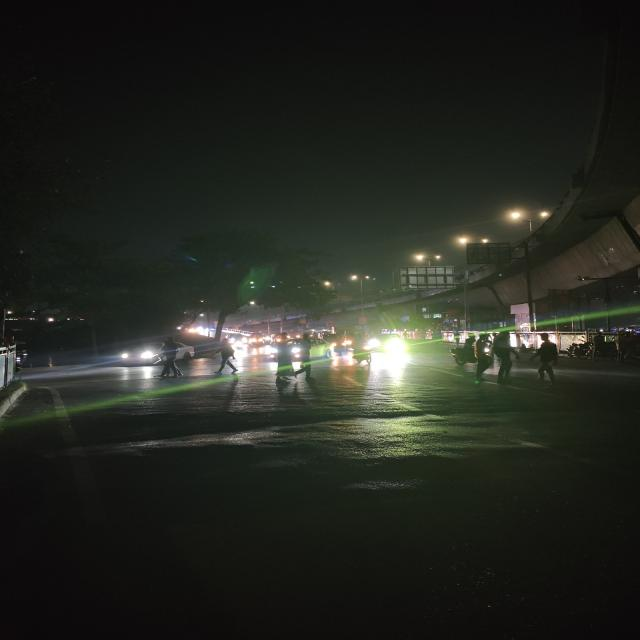car: (113, 334, 191, 376)
pedestrian: (151, 336, 188, 380), (533, 334, 562, 386), (488, 334, 520, 379), (290, 332, 320, 378), (214, 334, 241, 376), (274, 331, 294, 385), (470, 341, 495, 384), (472, 333, 496, 367)
